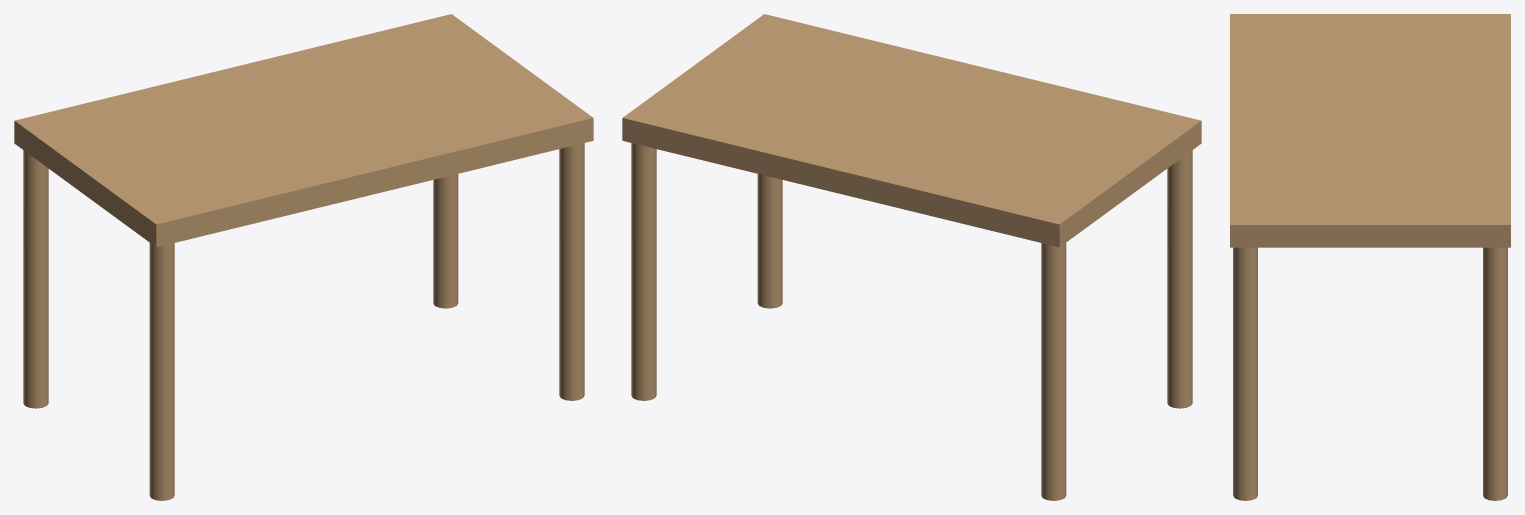
The model's file is table.glb.
The picture shows the model from 3 angles, left to right: view 1: azimuth 30°, elevation 25°; view 2: azimuth 150°, elevation 25°; view 3: azimuth 270°, elevation 25°; orthographic projection.
Visible parts, largest first — view 1: top, leg_bl, leg_br, leg_fl, leg_fr; view 2: top, leg_fl, leg_fr, leg_bl, leg_br; view 3: top, leg_fr, leg_br.
Boxes of the visible parts, left/top/right/bottom form: top: left=14, top=14, right=593, bottom=247; leg_bl: left=149, top=243, right=174, bottom=500; leg_br: left=559, top=143, right=584, bottom=400; leg_fl: left=23, top=150, right=48, bottom=408; leg_fr: left=433, top=174, right=458, bottom=308; top: left=622, top=14, right=1201, bottom=247; leg_fl: left=1041, top=243, right=1066, bottom=500; leg_fr: left=631, top=143, right=656, bottom=400; leg_bl: left=1167, top=150, right=1192, bottom=408; leg_br: left=757, top=174, right=782, bottom=308; top: left=1230, top=14, right=1510, bottom=247; leg_fr: left=1483, top=247, right=1507, bottom=500; leg_br: left=1233, top=247, right=1257, bottom=500.
Size of the model in its own units: 1.6 by 0.98 by 0.9.
